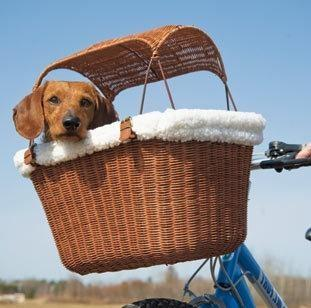bicycle: (132, 142, 311, 304)
